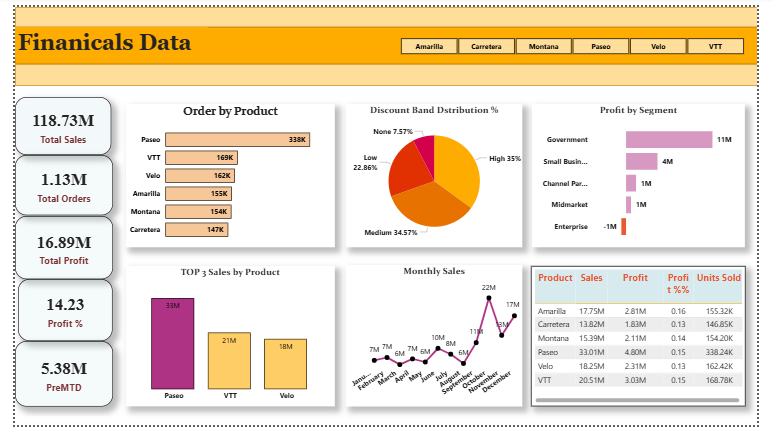

The page's visual inventory and layout, read from the dashboard file:
{"tool":"powerbi","page":{"name":"Dashboard","canvas":[1280,720],"ordinal":0},"visuals":[{"type":"shape","box":[0,0,1280.3,34.4],"z":0},{"type":"shape","box":[0,34.4,1280.3,63.9],"z":1000},{"type":"shape","box":[0,98.4,1280.3,37.7],"z":2000},{"type":"textbox","box":[0,34.4,332.8,54.1],"z":3000},{"type":"card","fields":{"Values":["KPIs.Total Sales"]},"box":[0,155.8,166,99.9],"z":4000},{"type":"card","fields":{"Values":["Sum(financials.Units Sold)"]},"box":[0,255.7,169,104.3],"z":5000},{"type":"card","fields":{"Values":["KPIs.Total Profit"]},"box":[0,360,169,108.7],"z":6000},{"type":"card","fields":{"Values":["KPIs.Profit %"]},"box":[5.9,468.7,163.1,107.3],"z":7000},{"type":"card","fields":{"Values":["KPIs.PreMTD"]},"box":[0,576,169,113.1],"z":8000},{"type":"slicer","title":" Profit by Segment","fields":{"Values":["financials.Product"]},"box":[639.2,50,640.7,38.2],"z":9000},{"type":"barChart","title":"Order by Product","fields":{"Y":["Sum(financials.Units Sold)"],"Category":["financials.Product"]},"box":[191,167.5,360,246.9],"z":9001},{"type":"columnChart","title":"TOP 3 Sales by Product","fields":{"Category":["financials.Product"],"Y":["Sum(financials.Sales)"]},"box":[191,446.7,360,242.4],"z":9002},{"type":"pieChart","title":" Discount Band Dstribution %","fields":{"Y":["CountNonNull(financials.Product)"],"Category":["financials.Discount Band"]},"box":[570.1,167.5,304.2,246.9],"z":9003},{"type":"lineChart","title":"Monthly Sales","fields":{"Category":["financials.Date.Variation.Date Hierarchy.Month"],"Y":["Sum(financials.Sales)"]},"box":[570.1,445.2,304.2,243.9],"z":9004},{"type":"barChart","title":" Profit by Segment","fields":{"Category":["financials.Segment"],"Y":["Sum(financials.Profit)"]},"box":[891.9,167.5,367.3,246.9],"z":9005},{"type":"tableEx","fields":{"Values":["financials.Product","KPIs.Total Sales","KPIs.Total Profit","KPIs.Profit %%","Sum(financials.Units Sold)"]},"box":[889,446.7,370.3,242.4],"z":9006}]}

Visuals, with their boxes in screenshot pixels (x1, y1, x2, y2), scaled from the page's 1280x720 canvas onto the 773x431 screenshot:
shape: BBox(0, 0, 772, 21)
shape: BBox(0, 21, 772, 59)
shape: BBox(0, 59, 772, 81)
textbox: BBox(0, 21, 201, 53)
card - KPIs.Total Sales: BBox(0, 93, 100, 153)
card - Sum(financials.Units Sold): BBox(0, 153, 102, 216)
card - KPIs.Total Profit: BBox(0, 216, 102, 281)
card - KPIs.Profit %: BBox(4, 281, 102, 345)
card - KPIs.PreMTD: BBox(0, 345, 102, 413)
" Profit by Segment" slicer: BBox(386, 30, 772, 53)
"Order by Product" barChart: BBox(115, 100, 333, 248)
"TOP 3 Sales by Product" columnChart: BBox(115, 267, 333, 413)
" Discount Band Dstribution %" pieChart: BBox(344, 100, 528, 248)
"Monthly Sales" lineChart: BBox(344, 267, 528, 413)
" Profit by Segment" barChart: BBox(539, 100, 760, 248)
tableEx - financials.Product x KPIs.Total Sales: BBox(537, 267, 760, 413)
